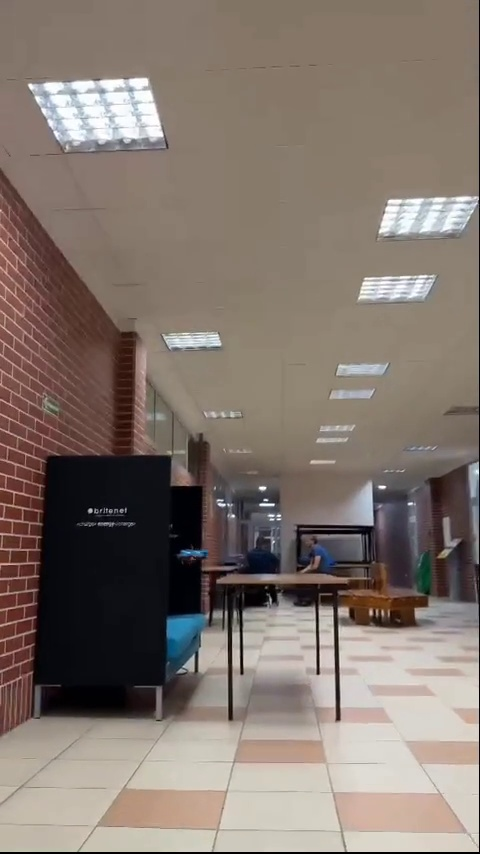drone: (180, 549, 209, 565)
no vest: (297, 535, 335, 571), (245, 535, 279, 570)
